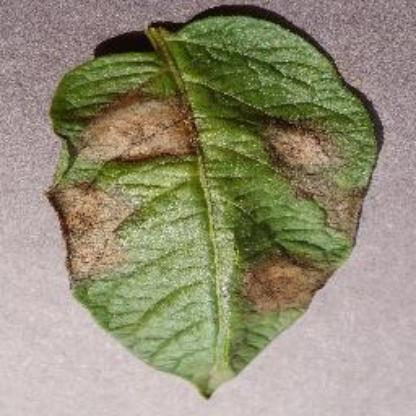Late-Blight: (41, 10, 385, 396)
